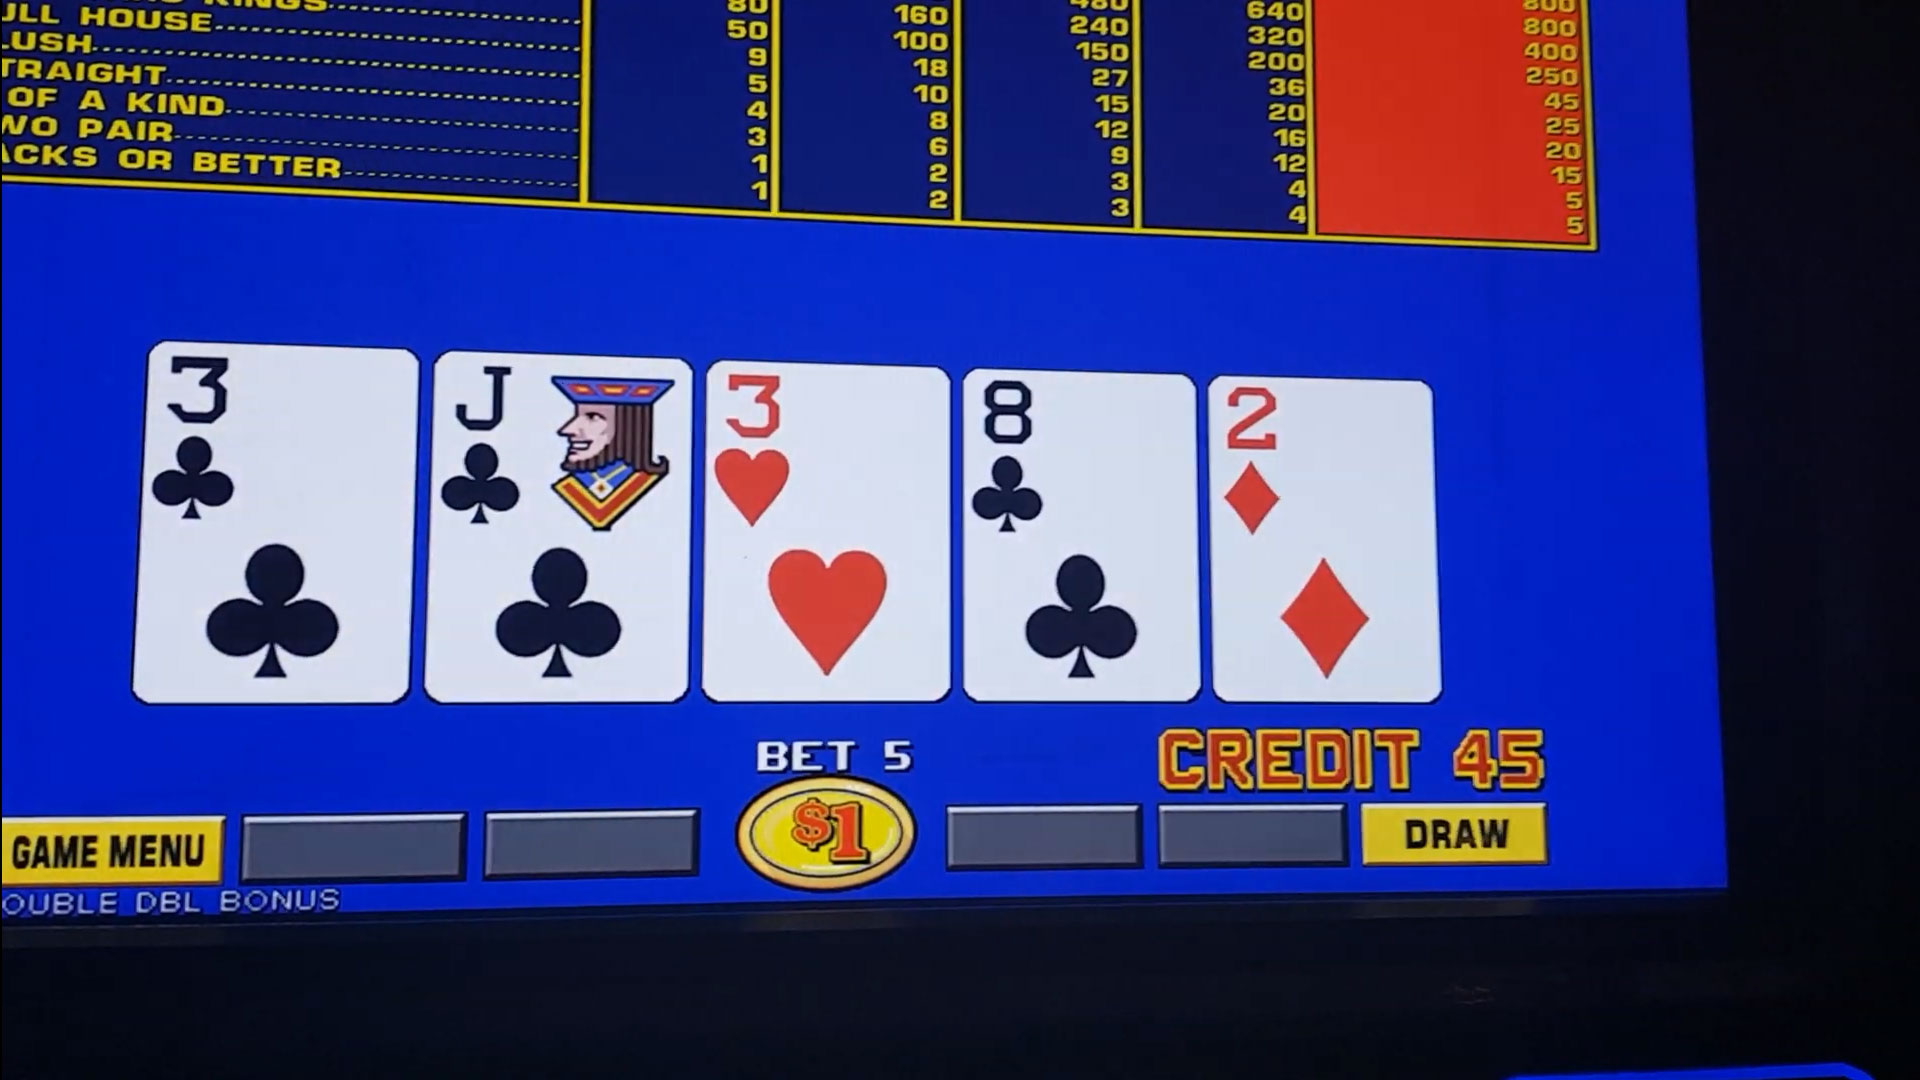C3: (152, 359, 407, 535)
C8: (968, 378, 1189, 539)
CJ: (436, 363, 684, 547)
D2: (1215, 382, 1425, 545)
H3: (711, 373, 944, 545)
